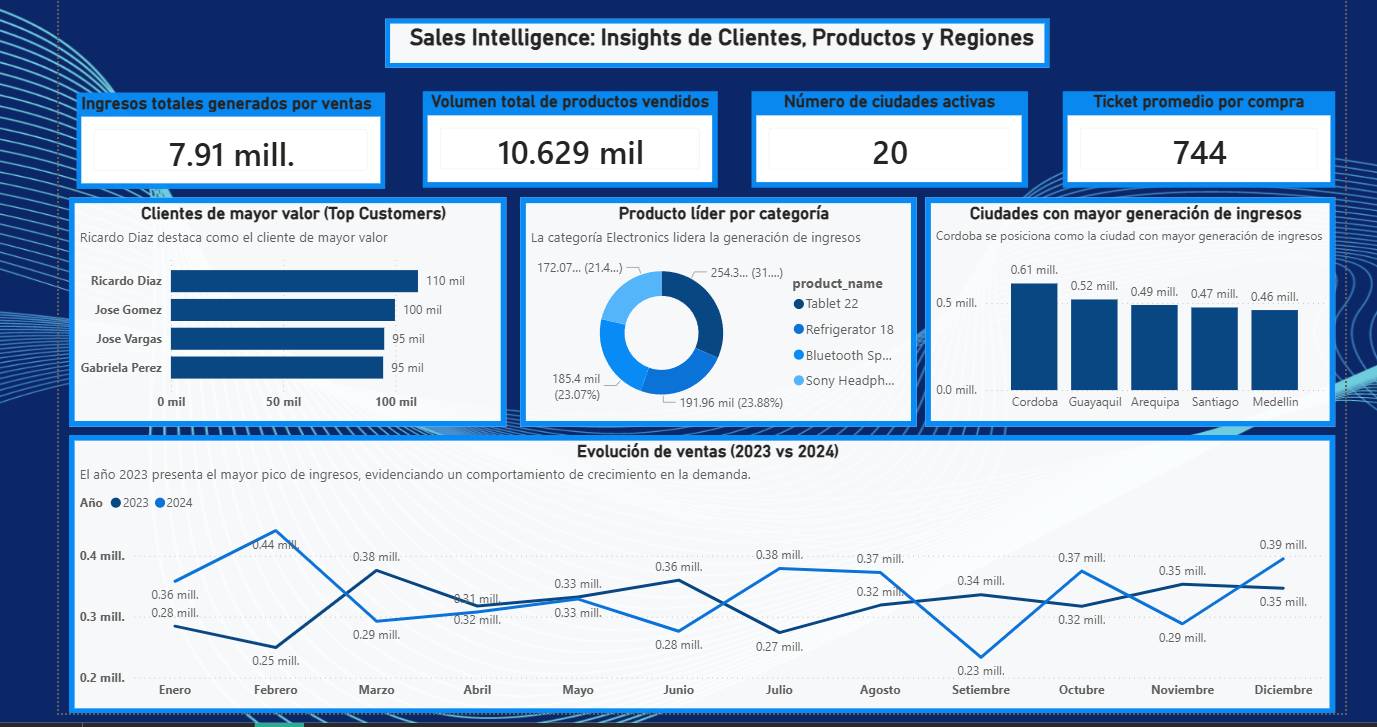

Layout of this report page (visuals, bound fields, positions):
{"tool":"powerbi","page":{"name":"1seles intelligence","canvas":[1280,720],"ordinal":0},"visuals":[{"type":"cardVisual","title":"Ingresos totales generados por ventas","fields":{"Data":["order_items.total_ventas"]},"box":[17.4,102,307.3,95.8],"z":0},{"type":"cardVisual","title":"Volumen total de productos vendidos","fields":{"Data":["order_items.productos"]},"box":[362,100.8,293.6,95.8],"z":1},{"type":"cardVisual","title":"Número de ciudades activas","fields":{"Data":["customers.ciudades"]},"box":[689.2,100.8,274.9,95.8],"z":2},{"type":"cardVisual","title":"Ticket promedio por compra","fields":{"Data":["order_items.promedio"]},"box":[998.9,100.8,271.2,95.8],"z":3},{"type":"lineChart","title":"Evolución de ventas (2023 vs 2024)","fields":{"Category":["orders.order_date.Variación.Jerarquía de fechas.Mes"],"Y":["order_items.total_ventas"],"Series":["orders.order_date.Variación.Jerarquía de fechas.Año"]},"box":[10,442.8,1260.1,277.4],"z":4},{"type":"clusteredBarChart","title":"Clientes de mayor valor (Top Customers)","fields":{"Category":["customers.customer_name"],"Y":["order_items.total_ventas"]},"box":[10,206.5,435.4,227.6],"z":5},{"type":"columnChart","title":"Ciudades con mayor generación de ingresos","fields":{"Category":["customers.city"],"Y":["order_items.total_ventas"]},"box":[862.1,206.5,408,227.6],"z":6},{"type":"donutChart","title":"Producto líder por categoría","fields":{"Category":["products.product_name"],"Series":["products.category"],"Y":["order_items.total_ventas"]},"box":[459,206.5,394.3,227.6],"z":7},{"type":"textbox","title":"Sales Intelligence: Insights de Clientes, Productos y Regiones","box":[324.7,28.6,660.5,48.5],"z":8}]}

Visuals, with their boxes in screenshot pixels (x1, y1, x2, y2):
"Ingresos totales generados por ventas" cardVisual: (78,95,385,190)
"Volumen total de productos vendidos" cardVisual: (422,93,715,189)
"Número de ciudades activas" cardVisual: (748,93,1022,189)
"Ticket promedio por compra" cardVisual: (1057,93,1327,189)
"Evolución de ventas (2023 vs 2024)" lineChart: (71,434,1327,711)
"Clientes de mayor valor (Top Customers)" clusteredBarChart: (71,199,505,426)
"Ciudades con mayor generación de ingresos" columnChart: (921,199,1327,426)
"Producto líder por categoría" donutChart: (519,199,912,426)
"Sales Intelligence: Insights de Clientes, Productos y Regiones" textbox: (385,21,1043,70)
